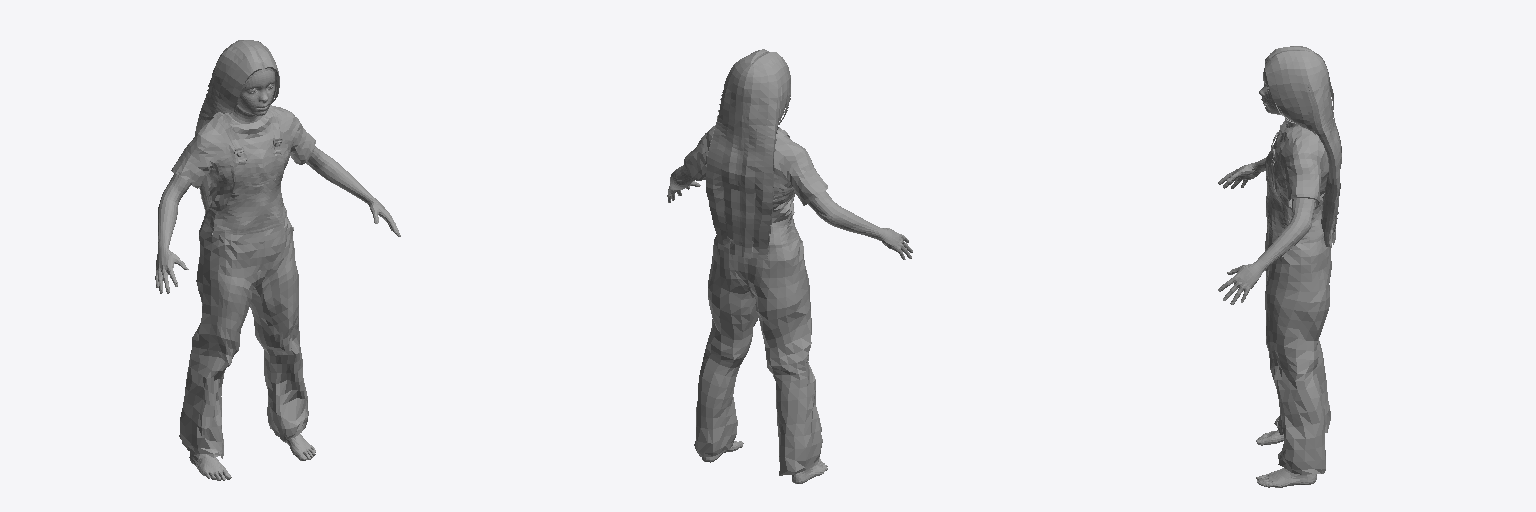
File: Megan.obj
3 renders of one model, left to right at view 1: azimuth 30°, elevation 25°; view 2: azimuth 150°, elevation 25°; view 3: azimuth 270°, elevation 25°, orthographic.
Visible parts, largest first — view 1: Megan:Male_worksuit01, Megan:Body, Megan:Long01; view 2: Megan:Male_worksuit01, Megan:Long01, Megan:Body; view 3: Megan:Male_worksuit01, Megan:Long01, Megan:Body.
Boxes of the visible parts, <box> form: Megan:Male_worksuit01: <box>171,105,315,458</box>; Megan:Body: <box>155,70,400,480</box>; Megan:Long01: <box>195,40,279,213</box>; Megan:Male_worksuit01: <box>684,126,827,475</box>; Megan:Long01: <box>706,49,790,260</box>; Megan:Body: <box>667,165,912,483</box>; Megan:Male_worksuit01: <box>1265,119,1331,474</box>; Megan:Long01: <box>1265,46,1341,246</box>; Megan:Body: <box>1218,68,1316,487</box>.
Size of the model in its own units: 7.32 by 12.11 by 3.29.